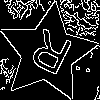R: (23, 28, 75, 85)
